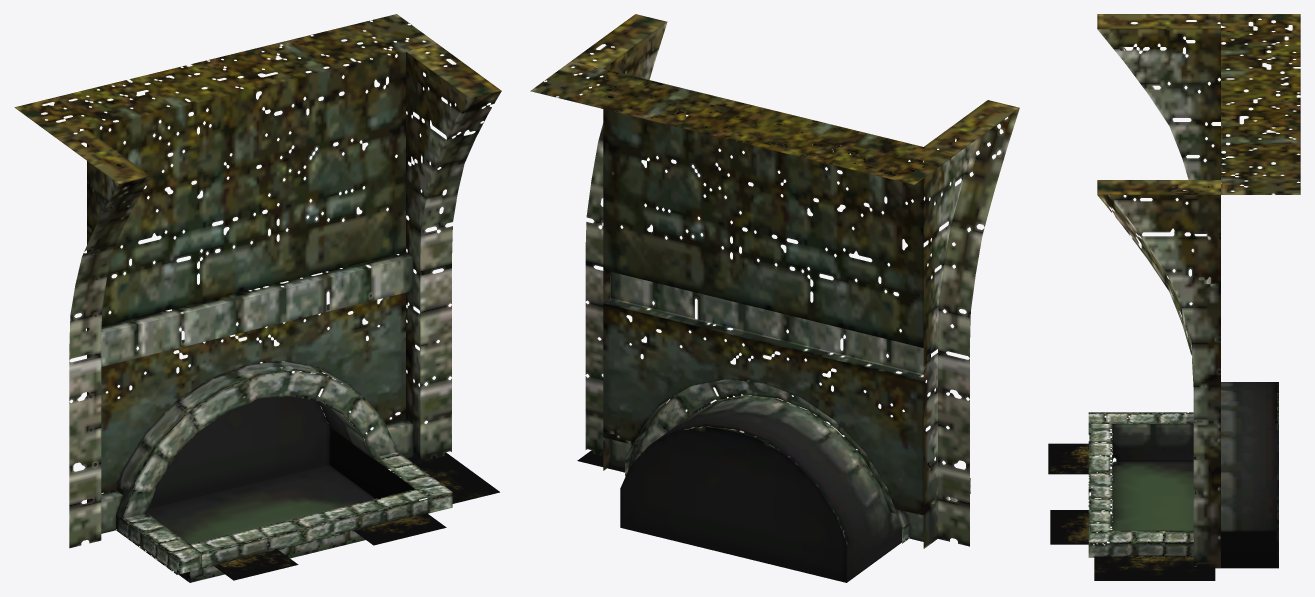
File: sewerWallStraightC.fbx
The picture shows the model from 3 angles, left to right: view 1: azimuth 30°, elevation 25°; view 2: azimuth 150°, elevation 25°; view 3: azimuth 270°, elevation 25°; orthographic projection. The views are drawn at different scales.
Visible parts, largest first — view 1: sewerWallStraightCQ, sewerWallStraightC; view 2: sewerWallStraightCQ; view 3: sewerWallStraightCQ, sewerWallStraightC.
Part boxes in pixels (x1,y1,x2,y2): sewerWallStraightCQ: (14,14,501,582); sewerWallStraightC: (213,452,499,580); sewerWallStraightCQ: (530,14,1019,582); sewerWallStraightCQ: (1088,14,1300,568); sewerWallStraightC: (1048,443,1215,580).
Bounding box in the file's own units: 300 × 317 × 177.
Materials: 2 (2 with a texture image).
